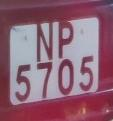0: (55, 55, 79, 100)
5: (12, 60, 35, 106), (76, 51, 96, 97)
7: (34, 58, 58, 104)
N: (32, 17, 58, 67)
P: (55, 18, 78, 63)
